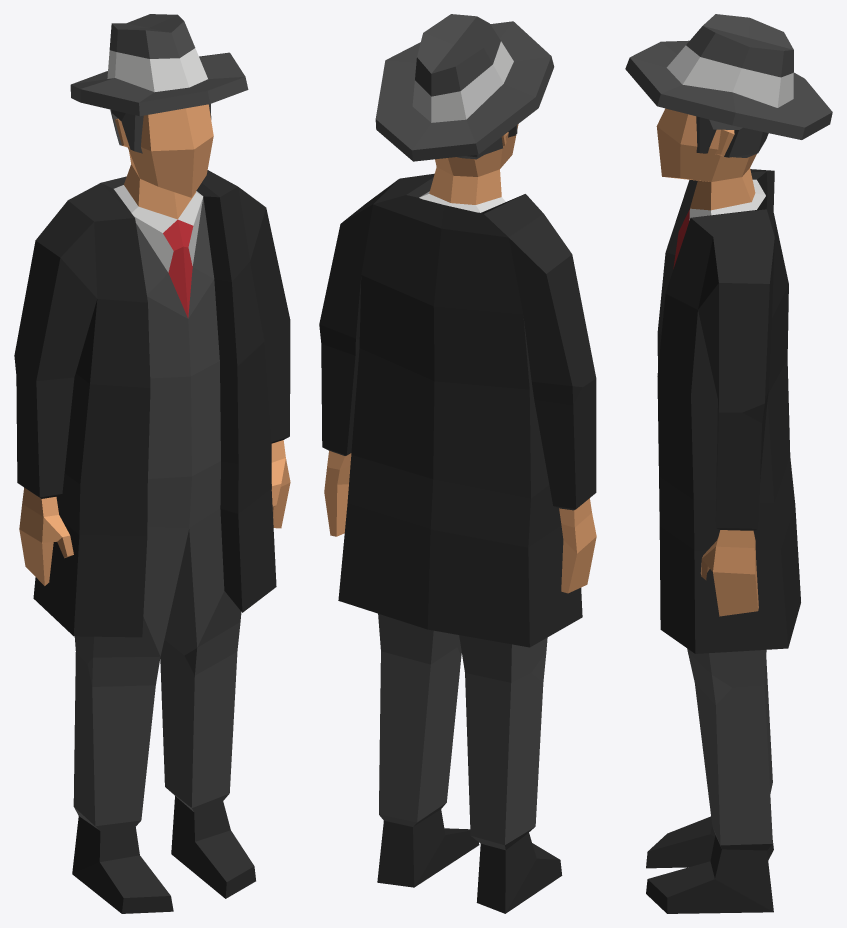
Rendered from man-mafia.fbx.
3 views of the same model, side by side, from view 1: azimuth 30°, elevation 25°; view 2: azimuth 150°, elevation 25°; view 3: azimuth 270°, elevation 25° (orthographic).
Parts seen in each view (by area): view 1: man-mafia; view 2: man-mafia; view 3: man-mafia.
Boxes of the visible parts, bbox=[...] form: man-mafia: bbox=[14, 14, 290, 913]; man-mafia: bbox=[319, 14, 596, 913]; man-mafia: bbox=[625, 14, 832, 913].
Bounding box in the file's own units: 0.5881 × 1.89 × 0.4147.
